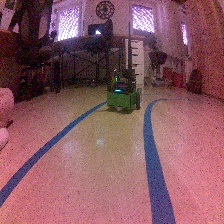rob: (106, 68, 141, 113)
